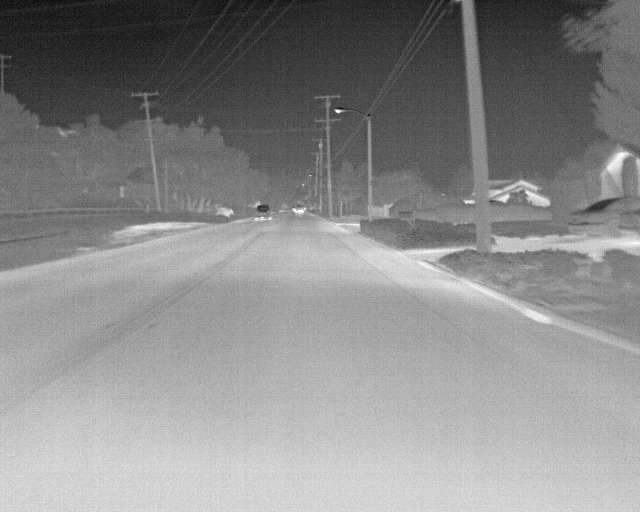vehicle: (253, 204, 274, 222)
